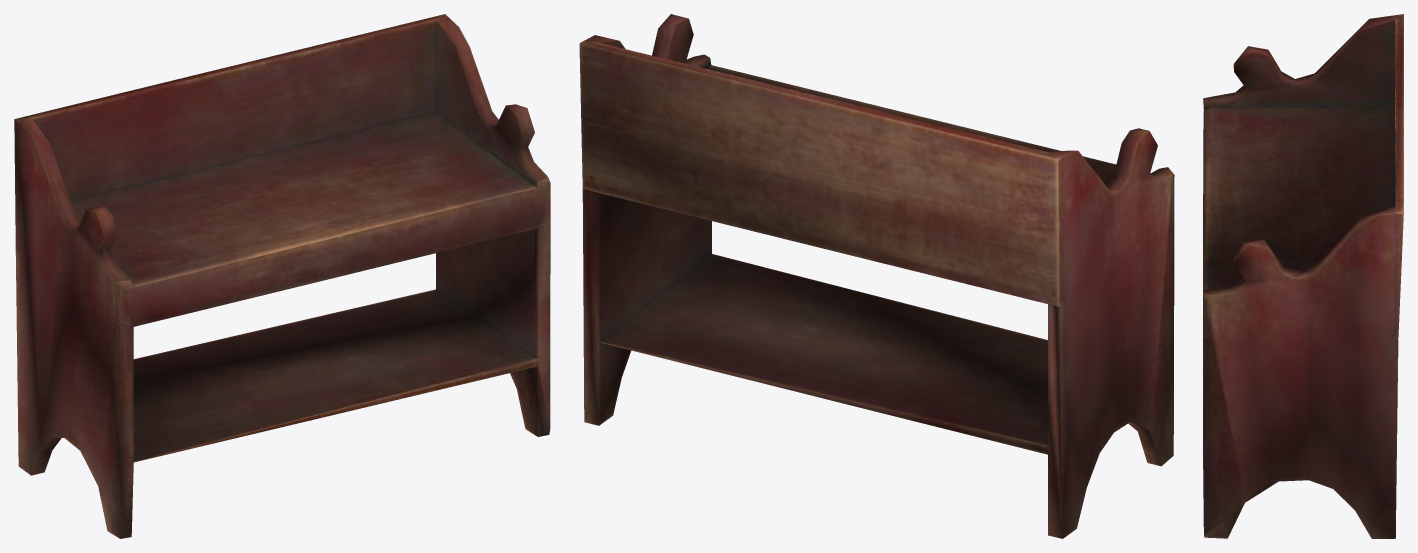
3 renders of one model, left to right at view 1: azimuth 30°, elevation 25°; view 2: azimuth 150°, elevation 25°; view 3: azimuth 270°, elevation 25°, orthographic. The views are drawn at different scales.
Parts seen in each view (by area): view 1: painted_wooden_bench; view 2: painted_wooden_bench; view 3: painted_wooden_bench.
Part boxes in pixels (x1=…): painted_wooden_bench: x1=14, y1=14, x2=550, y2=538; painted_wooden_bench: x1=579, y1=14, x2=1174, y2=538; painted_wooden_bench: x1=1203, y1=14, x2=1403, y2=538.
Bounding box in the file's own units: 1.17 × 0.8902 × 0.4965.
Materials: 1 (1 with a texture image).
